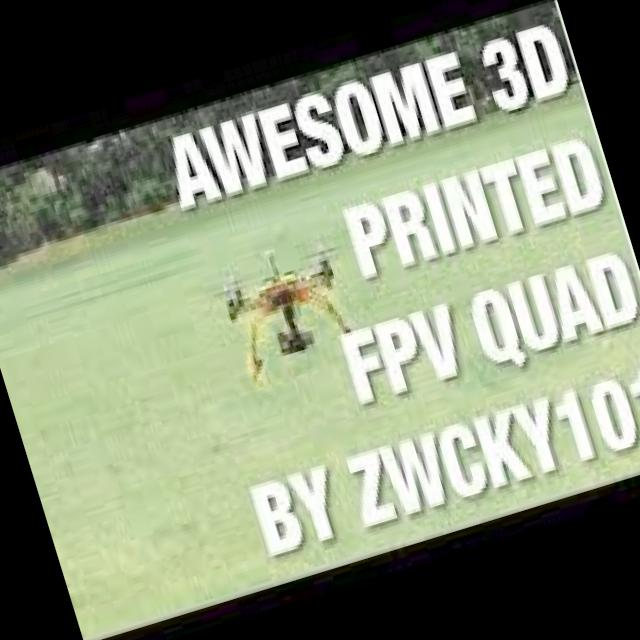drone: (192, 227, 382, 411)
